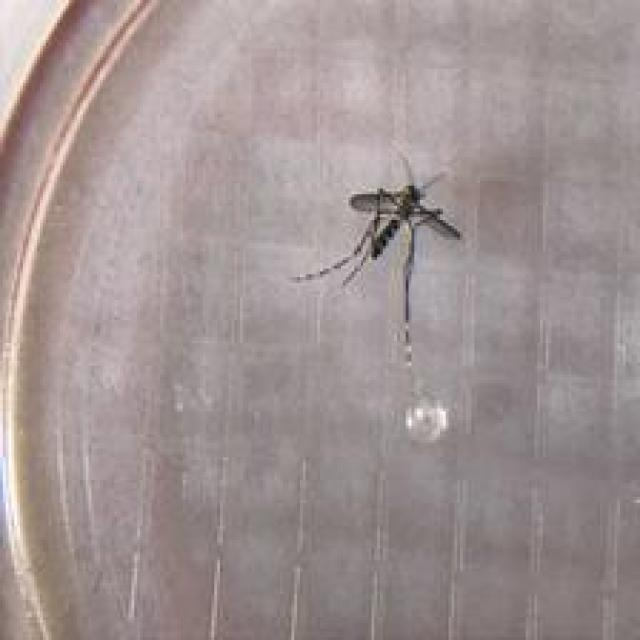Aedes albopictus: (291, 152, 463, 352)
